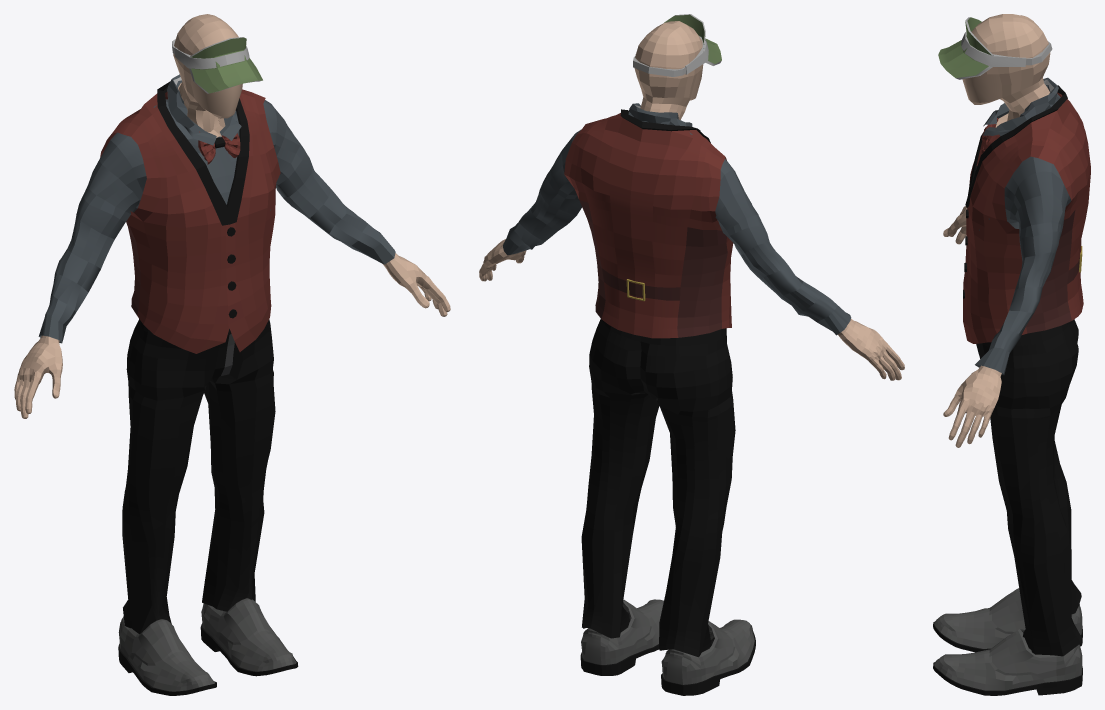
File: Dealer.fbx
The picture shows the model from 3 angles, left to right: view 1: azimuth 30°, elevation 25°; view 2: azimuth 150°, elevation 25°; view 3: azimuth 270°, elevation 25°; orthographic projection. The views are drawn at different scales.
Visible parts, largest first — view 1: Pants, Vest, Body, Shoe_R, Shoe_L, Hat, pCube1, Bowtie; view 2: Pants, Vest, Body, Shoe_R, Shoe_L, Hat; view 3: Pants, Body, Vest, Shoe_L, Shoe_R, Hat, pCube1.
Part boxes in pixels (bbox=[...]): Pants: bbox=[122, 319, 275, 633]; Vest: bbox=[100, 81, 280, 353]; Body: bbox=[14, 14, 450, 418]; Shoe_R: bbox=[118, 616, 216, 695]; Shoe_L: bbox=[200, 598, 298, 676]; Hat: bbox=[189, 37, 262, 93]; pCube1: bbox=[174, 46, 249, 69]; Bowtie: bbox=[198, 131, 240, 164]; Pants: bbox=[581, 319, 735, 657]; Vest: bbox=[564, 109, 733, 338]; Body: bbox=[479, 21, 904, 380]; Shoe_R: bbox=[661, 619, 755, 695]; Shoe_L: bbox=[580, 599, 663, 675]; Hat: bbox=[664, 14, 721, 65]; Pants: bbox=[976, 319, 1081, 656]; Body: bbox=[943, 14, 1071, 447]; Vest: bbox=[963, 85, 1090, 343]; Shoe_L: bbox=[933, 629, 1082, 695]; Shoe_R: bbox=[933, 588, 1082, 652]; Hat: bbox=[938, 17, 993, 79]; pCube1: bbox=[961, 32, 1026, 66].
Bounding box in the file's own units: 11.91 × 17.36 × 3.84.
